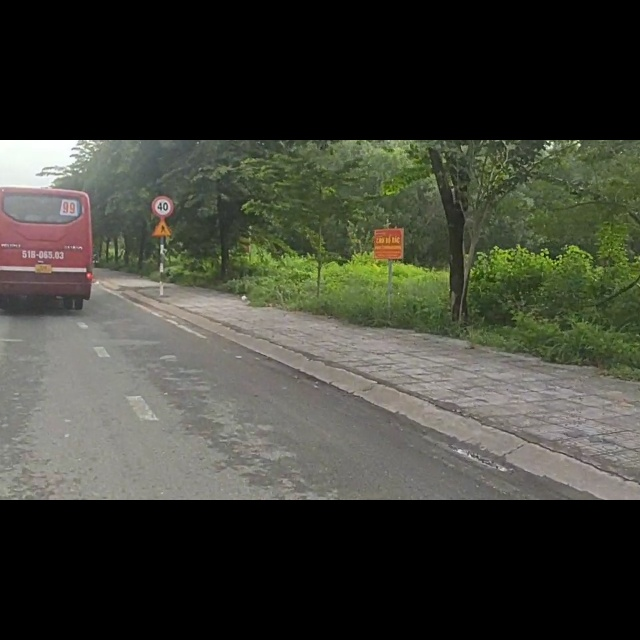bien_nguy_hiem: (151, 137, 175, 175), (152, 98, 175, 136)
